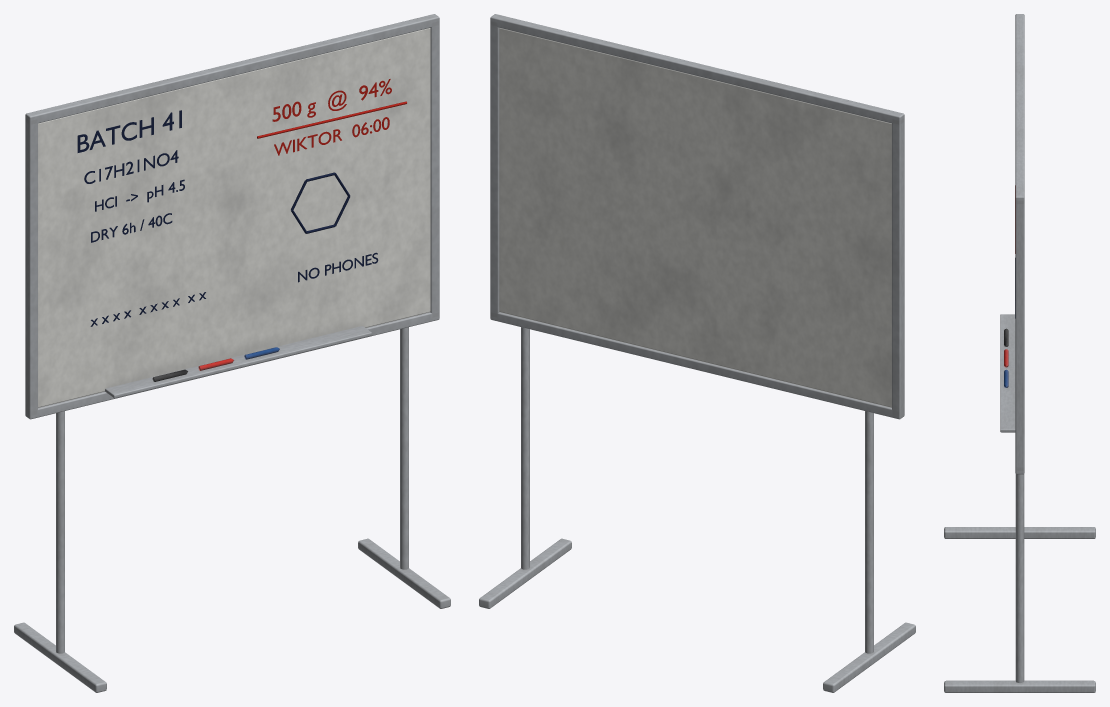
File: lab_tablica.glb
The picture shows the model from 3 angles, left to right: view 1: azimuth 30°, elevation 25°; view 2: azimuth 150°, elevation 25°; view 3: azimuth 270°, elevation 25°; orthographic projection. The views are drawn at different scales.
Parts seen in each view (by area): view 1: Tablica, Pismo; view 2: Tablica; view 3: Tablica.
Part boxes in pixels (x1=…): Tablica: x1=14, y1=14, x2=450, y2=692; Pismo: x1=77, y1=79, x2=406, y2=326; Tablica: x1=479, y1=14, x2=915, y2=692; Tablica: x1=944, y1=14, x2=1095, y2=692.
Size of the model in its own units: 1.43 by 1.85 by 0.5.
3 materials, 1 textured.
